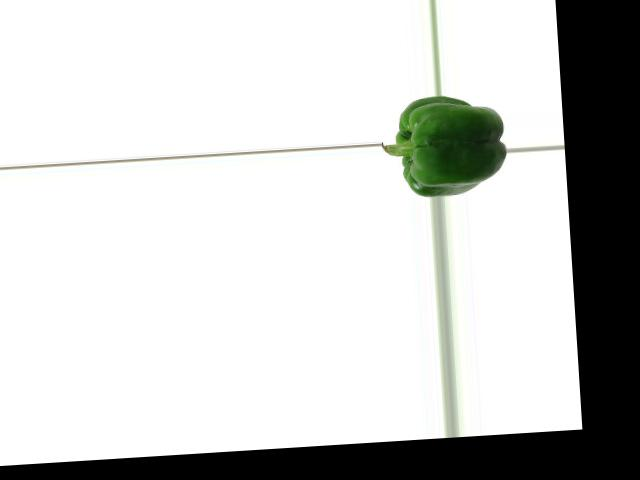bell_pepper: (381, 92, 509, 197)
